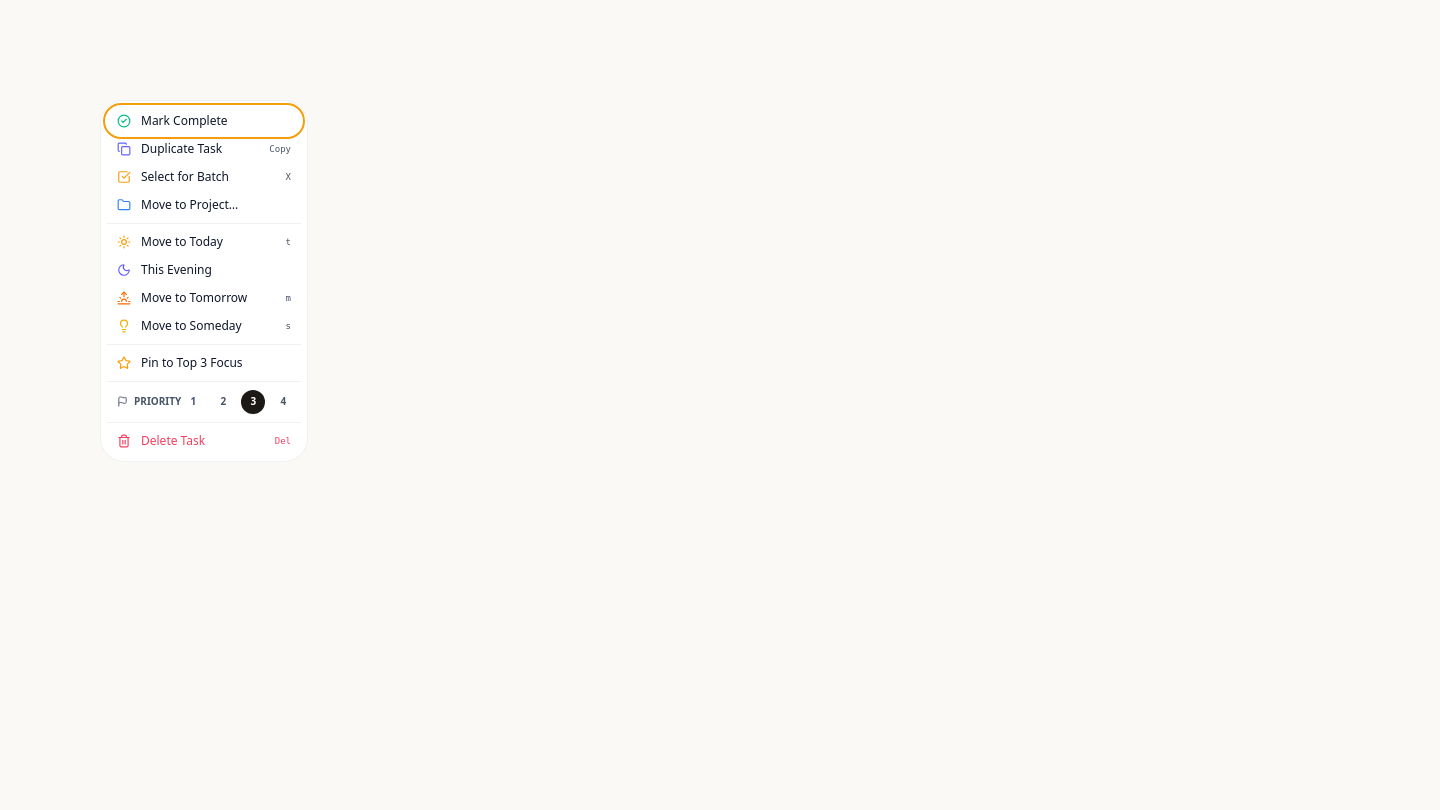
Scenario: TaskContextMenu › renders Move to Project option and opens searchable picker
What coordinates should you click on to do the following:
click the button "Move to Project…"
I would click on:
 (204, 205)
Its box is x1=107 y1=191 x2=301 y2=219.
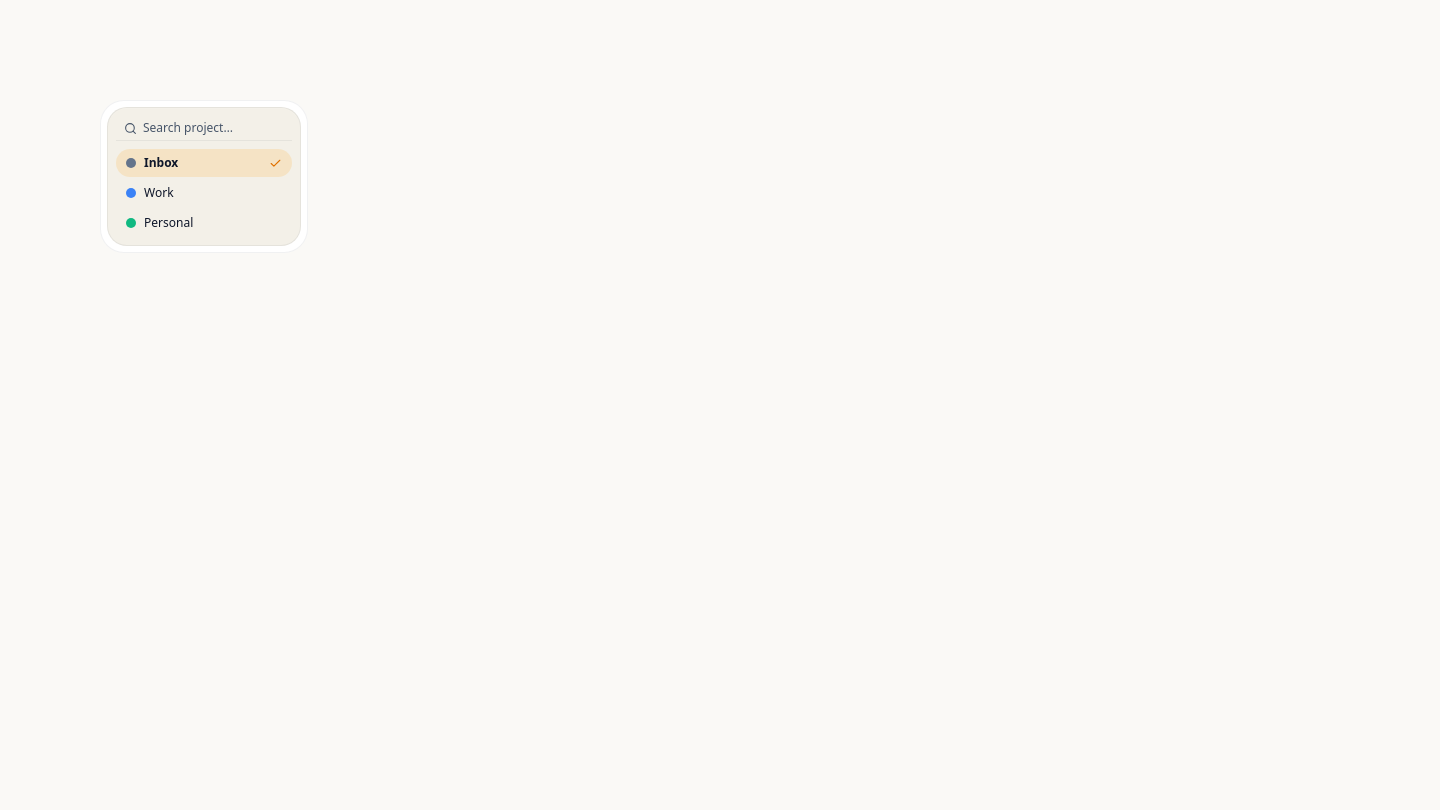
Check: the field with placeholder "Search project…" is shown, box x1=143 y1=120 x2=284 y2=136
Check: the text "Work" is shown, box x1=144 y1=185 x2=174 y2=201
Check: the text "Personal" is shown, box x1=144 y1=215 x2=193 y2=231
